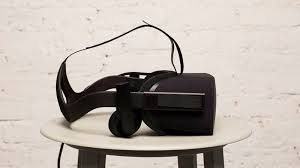oculus: (110, 69, 226, 141)
